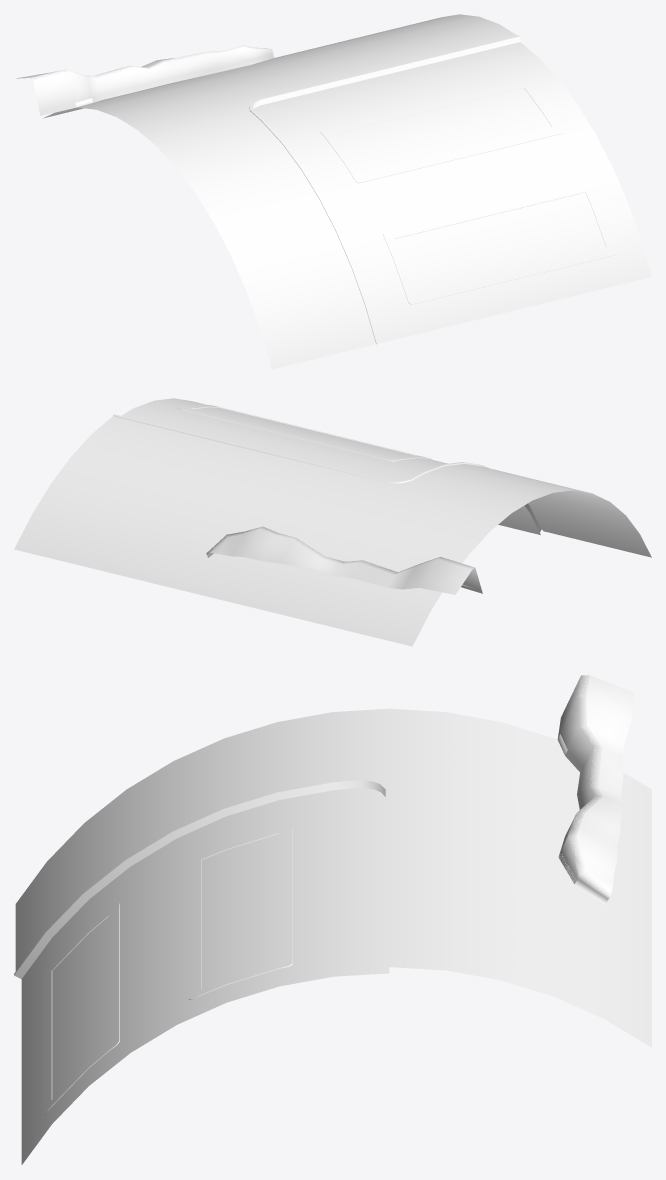
File: grd_Ex_w_nw_0.dae
3 views of the same model, one above another, from view 1: azimuth 30°, elevation 25°; view 2: azimuth 150°, elevation 25°; view 3: azimuth 270°, elevation 25° (orthographic). The views are drawn at different scales.
Parts seen in each view (by area): view 1: grass_1_0, road1_3_0, renga1_2_0, cliff3_0_0; view 2: grass_1_0, road1_3_0, renga1_2_0, cliff3_0_0; view 3: grass_1_0, road1_3_0, renga1_2_0, cliff3_0_0.
Boxes of the visible parts, x1,y1,x2,y2 form: grass_1_0: (16,14,605,369); road1_3_0: (253,42,651,344); renga1_2_0: (249,35,616,344); cliff3_0_0: (30,45,274,115); grass_1_0: (14,407,651,646); road1_3_0: (121,398,540,534); renga1_2_0: (113,404,542,532); cliff3_0_0: (206,526,481,590); grass_1_0: (15,675,651,1098); road1_3_0: (21,787,389,1164); renga1_2_0: (14,778,389,1114); cliff3_0_0: (558,675,611,899).
Size of the model in its own units: 768 by 267 by 735.
4 materials, 1 textured.
